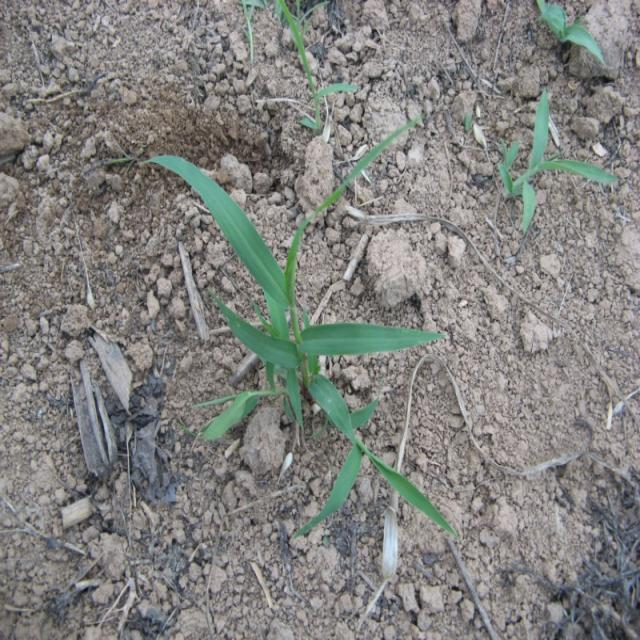bg: (142, 149, 454, 539)
